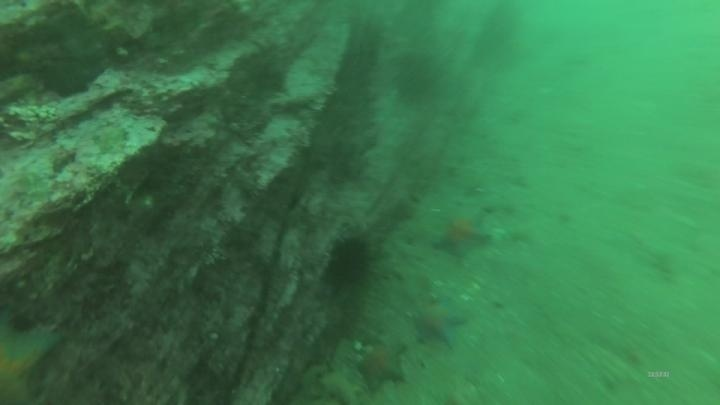echinus: (323, 234, 376, 291), (390, 52, 440, 105)
holothurian: (308, 361, 365, 405)
starfish: (0, 321, 66, 405), (428, 206, 494, 263), (410, 295, 470, 350), (354, 337, 410, 393)
